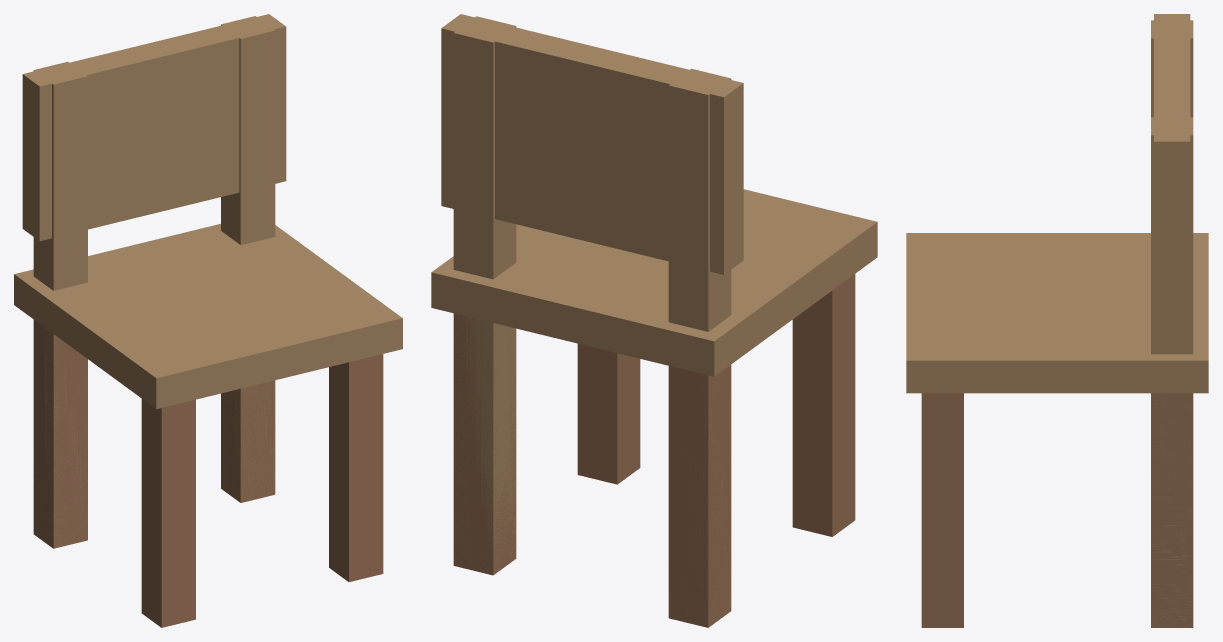
File: interior_chair.glb
The picture shows the model from 3 angles, left to right: view 1: azimuth 30°, elevation 25°; view 2: azimuth 150°, elevation 25°; view 3: azimuth 270°, elevation 25°; orthographic projection. The views are drawn at different scales.
Visible parts, largest first — view 1: seat, backrest, back_post.001, leg.008, back_post, leg.010, leg.009, leg.011; view 2: backrest, seat, back_post.001, leg.009, leg.008, back_post, leg.011, leg.010; view 3: seat, backrest, leg.010, leg.011, back_post.001, back_post.
Boxes of the visible parts, bbox=[...] form: seat: bbox=[14, 224, 402, 409]; backrest: bbox=[22, 14, 286, 241]; back_post.001: bbox=[221, 16, 275, 502]; leg.008: bbox=[141, 399, 195, 627]; back_post: bbox=[33, 61, 87, 548]; leg.010: bbox=[329, 354, 383, 581]; leg.009: bbox=[33, 320, 87, 548]; leg.011: bbox=[221, 380, 275, 502]; backrest: bbox=[441, 14, 743, 274]; seat: bbox=[431, 189, 877, 376]; back_post.001: bbox=[453, 16, 516, 574]; leg.009: bbox=[668, 365, 731, 627]; leg.008: bbox=[792, 274, 855, 536]; back_post: bbox=[668, 68, 731, 627]; leg.011: bbox=[453, 313, 516, 575]; leg.010: bbox=[577, 343, 640, 484]; seat: bbox=[906, 233, 1208, 393]; backrest: bbox=[1154, 14, 1190, 305]; leg.010: bbox=[921, 393, 963, 627]; leg.011: bbox=[1151, 393, 1193, 627]; back_post.001: bbox=[1151, 117, 1193, 627]; back_post: bbox=[1151, 20, 1193, 117].
Size of the model in its own units: 0.5 by 0.9 by 0.5.
